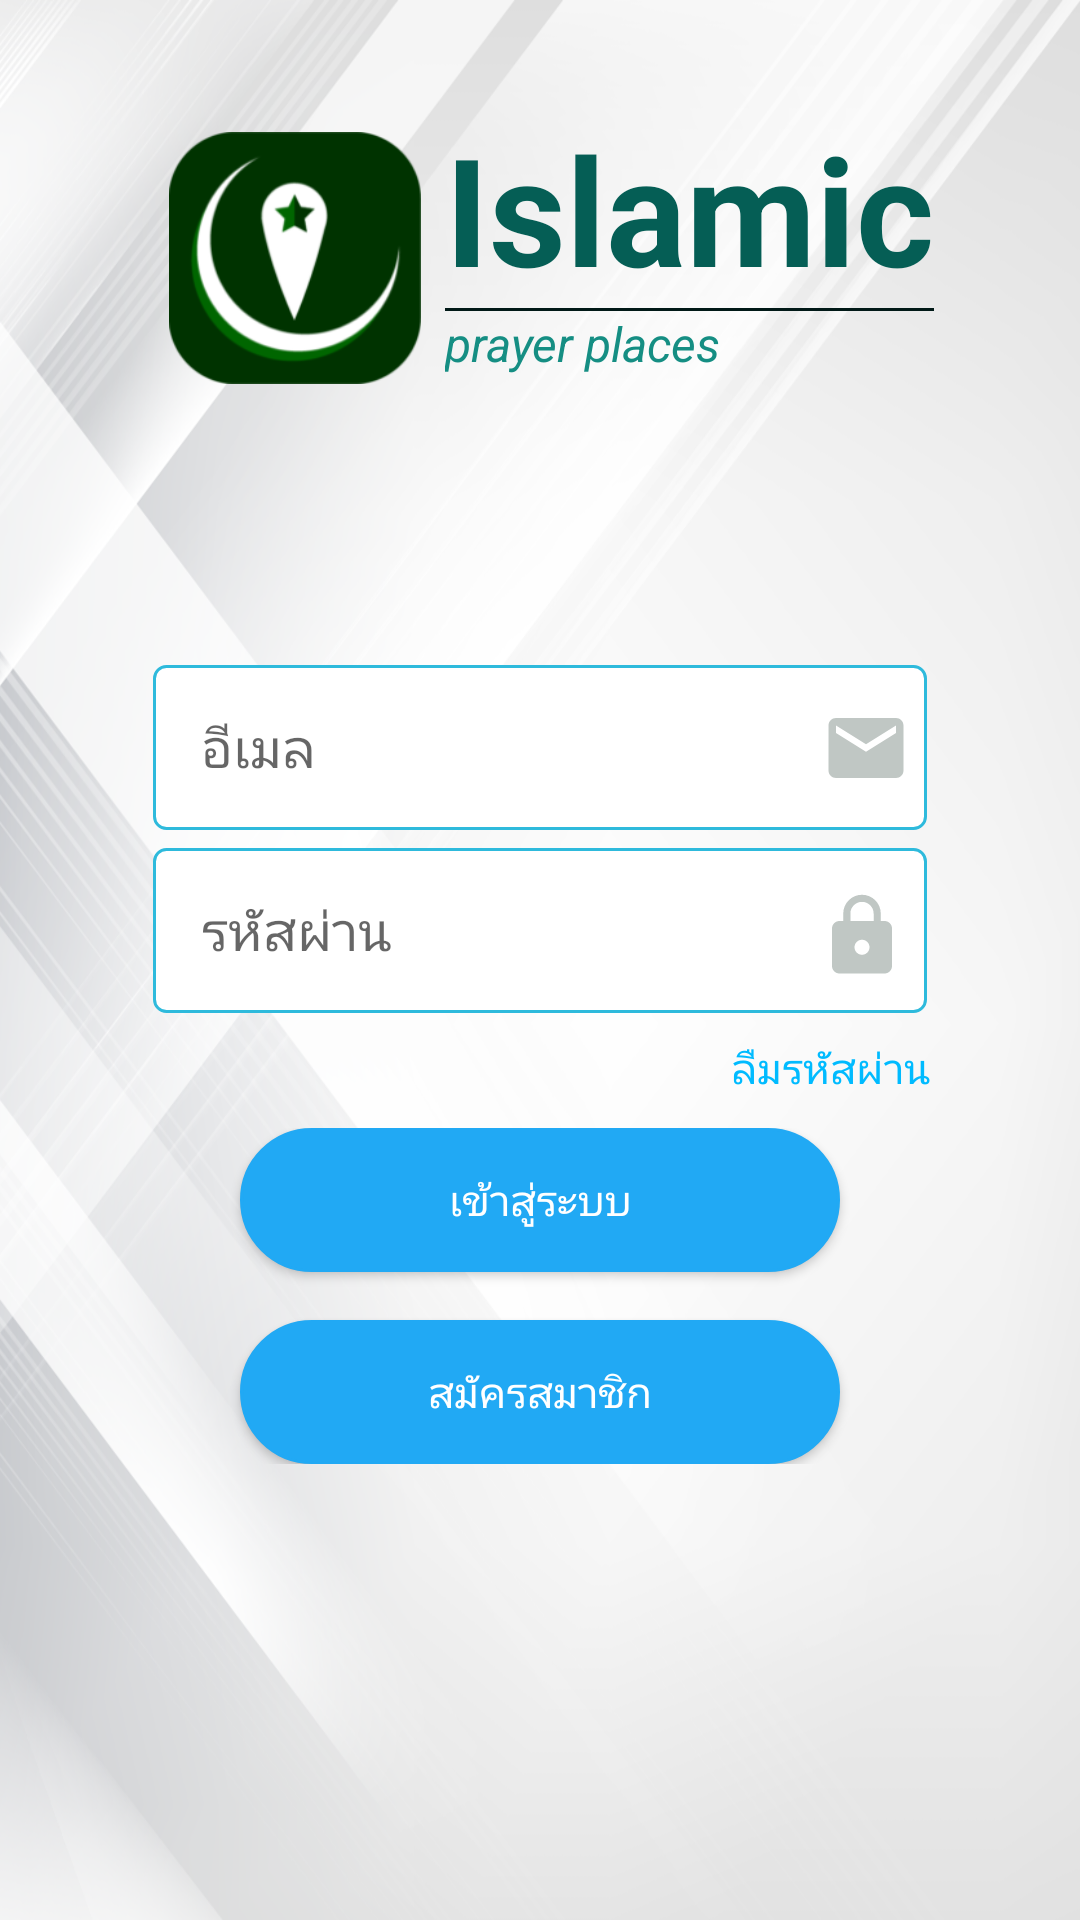

Icon click points for this 1080w x 1920h phone screenshot, format (x,y):
email: (866,748)
lock: (862,934)
